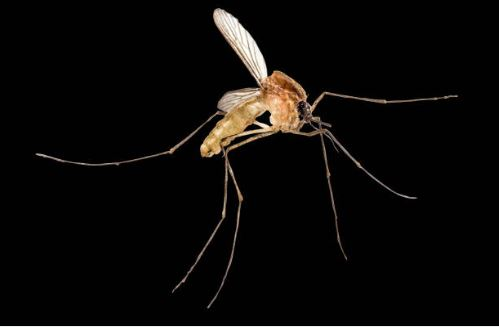dengue_mosquito: (168, 9, 419, 252)
